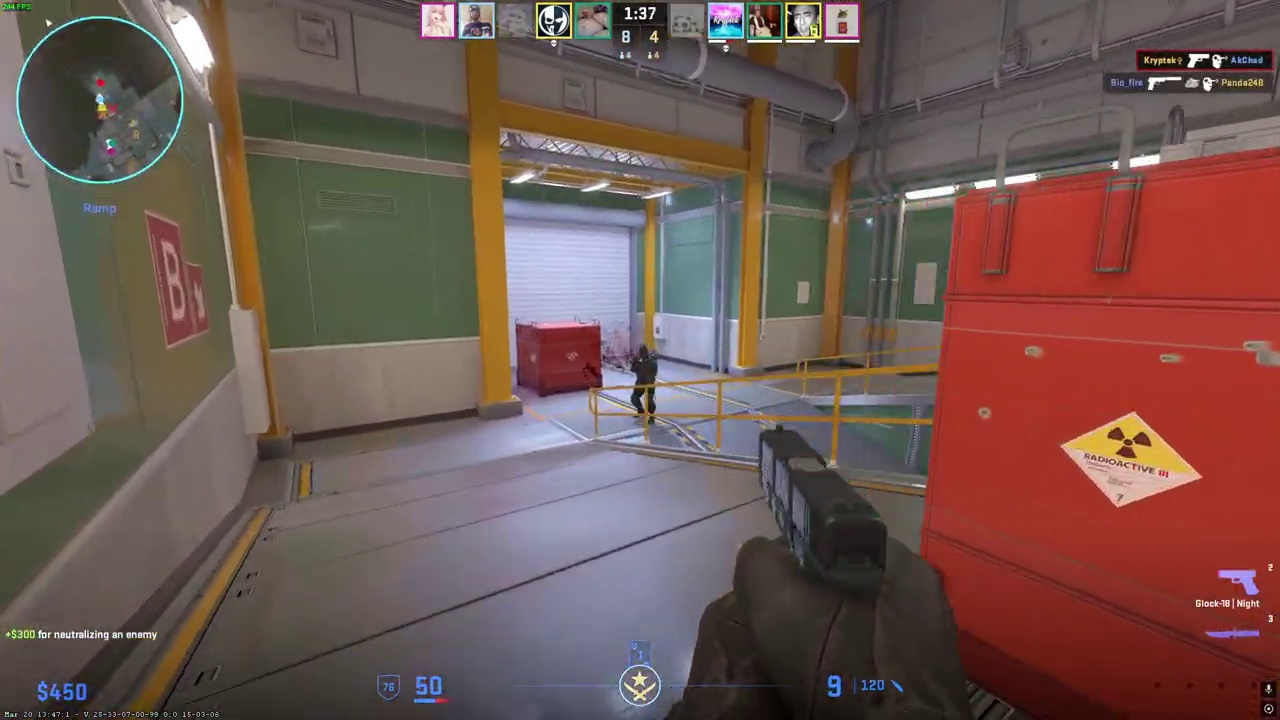CT: (630, 345, 658, 423)
